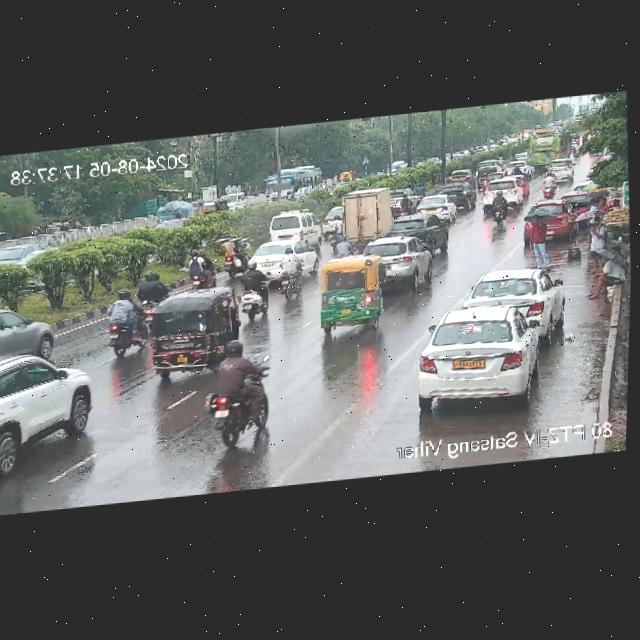bus: (524, 125, 577, 168), (268, 163, 321, 202)
car: (408, 302, 561, 409), (0, 347, 95, 469), (139, 289, 243, 379), (463, 264, 562, 332), (312, 252, 384, 331), (355, 231, 436, 292), (0, 301, 57, 369), (245, 237, 320, 278), (0, 228, 43, 273), (477, 175, 526, 206), (266, 210, 314, 241), (412, 193, 460, 218), (438, 183, 473, 210), (544, 158, 574, 181), (504, 158, 533, 180), (443, 170, 475, 186), (200, 200, 228, 217), (474, 160, 502, 174), (340, 170, 352, 183)
motorcycle: (201, 342, 270, 456), (100, 290, 150, 353), (239, 263, 275, 322), (182, 249, 216, 290), (279, 248, 305, 299), (219, 235, 249, 278), (491, 192, 513, 229), (137, 269, 164, 299), (328, 213, 346, 247), (541, 172, 558, 204), (335, 234, 353, 257), (397, 193, 411, 219), (411, 184, 427, 201), (513, 164, 521, 176)
person: (584, 254, 626, 298), (519, 214, 552, 260), (586, 212, 610, 271), (584, 193, 608, 217)
truck: (330, 186, 399, 245)
